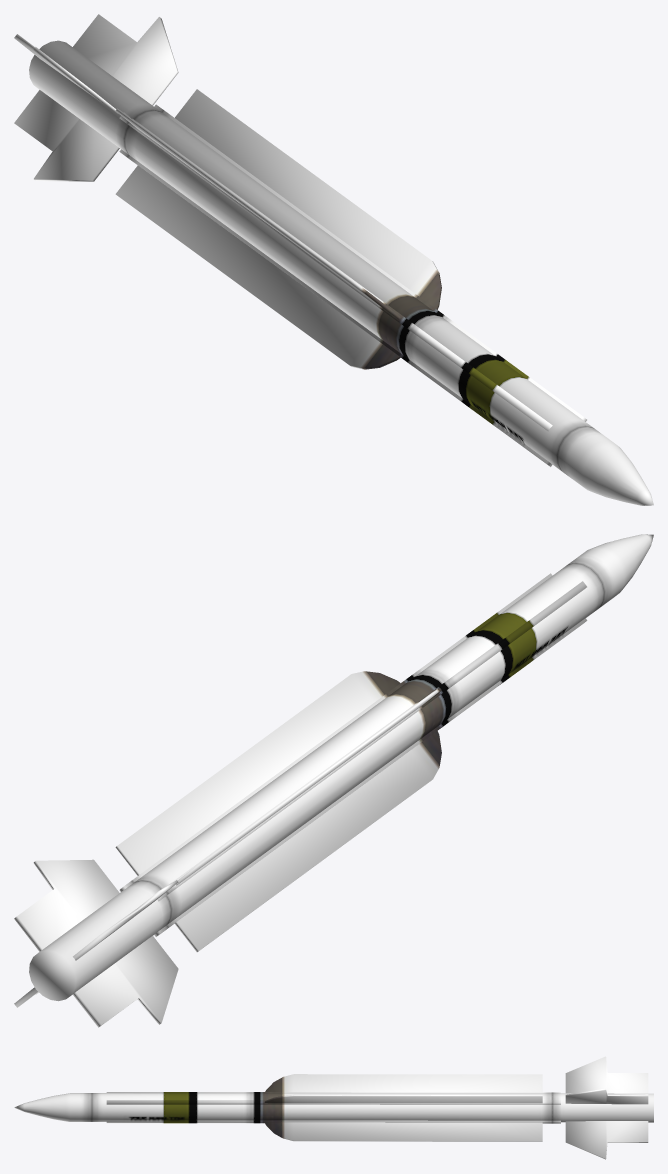
Rendered from R550 Magic missile.obj.
3 views of the same model, one above another, from view 1: azimuth 30°, elevation 25°; view 2: azimuth 150°, elevation 25°; view 3: azimuth 270°, elevation 25° (orthographic). The views are drawn at different scales.
Parts seen in each view (by area): view 1: missile_magic_1; view 2: missile_magic_1; view 3: missile_magic_1.
Boxes of the visible parts, x1,y1,x2,y2 form: missile_magic_1: (14, 14, 653, 505); missile_magic_1: (14, 534, 653, 1027); missile_magic_1: (14, 1056, 653, 1159).
Size of the model in its own units: 0.3531 by 0.3531 by 2.87.
